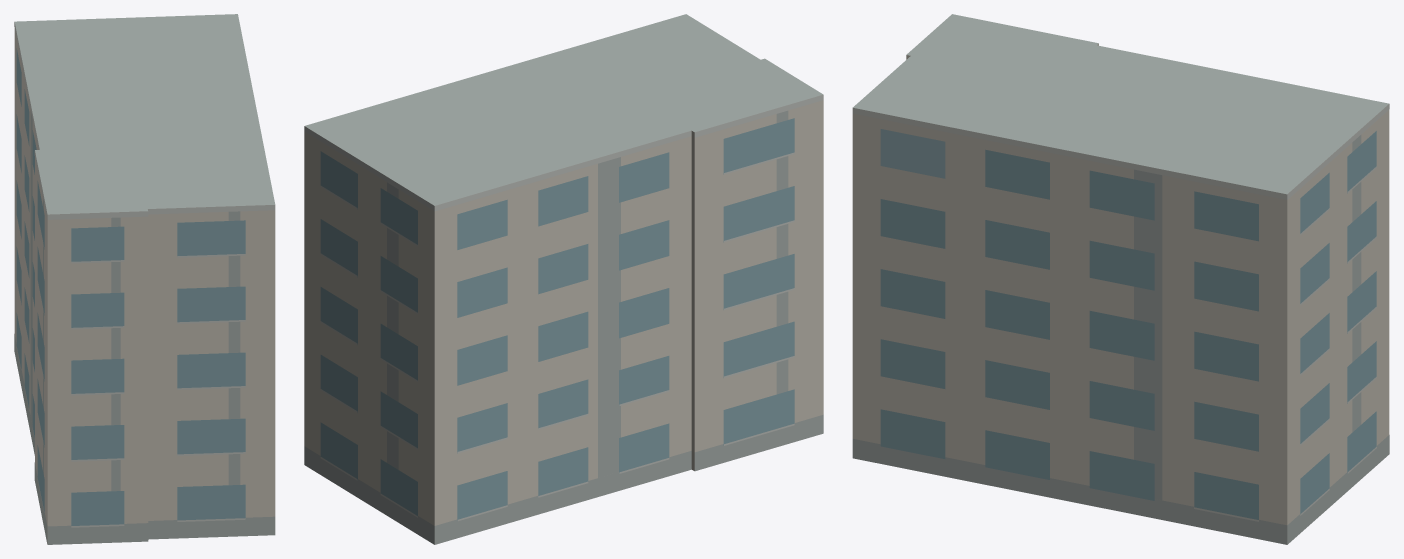
The model's file is survey-upis-32789466.glb.
3 views of the same model, side by side, from view 1: azimuth 30°, elevation 25°; view 2: azimuth 150°, elevation 25°; view 3: azimuth 270°, elevation 25° (orthographic). The views are drawn at different scales.
Visible parts, largest first — view 1: survey-upis-32789466.tmp; view 2: survey-upis-32789466.tmp; view 3: survey-upis-32789466.tmp.
Boxes of the visible parts, x1,y1,x2,y2 form: survey-upis-32789466.tmp: (14,14,275,544); survey-upis-32789466.tmp: (304,14,823,544); survey-upis-32789466.tmp: (852,14,1389,544).
Bounding box in the file's own units: 16.34 × 14.8 × 20.55.
